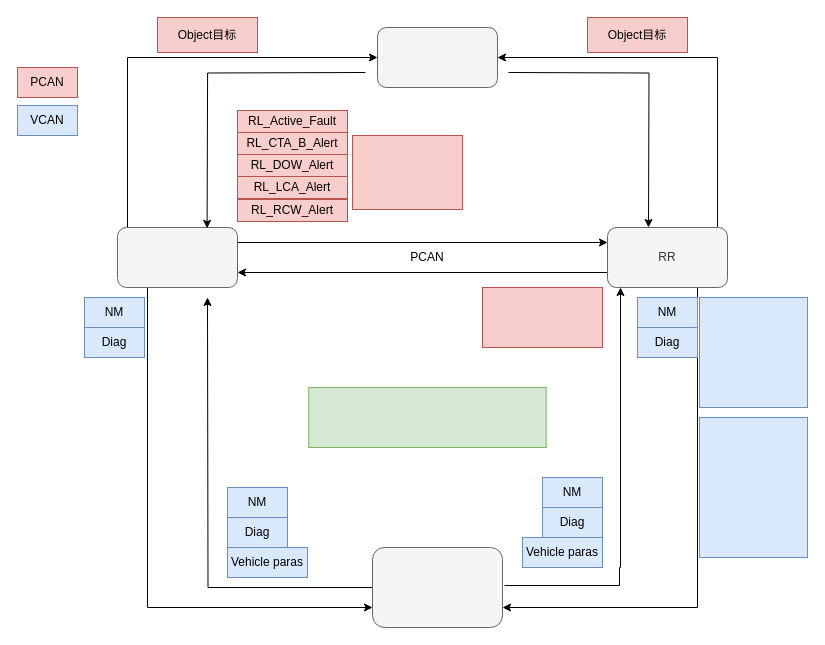
Image size: 825x645. Some labels were removed from this diagram. The shapes that lost their labels are listed below. From the top down, each one's centre as x and y in pixels, then its label:
At (x=437, y=57): "MPC".
At (x=407, y=172): "RL_FF_OP_XXX".
At (x=177, y=257): "RL".
At (x=542, y=317): "RR_FF_OP_XXX".
At (x=753, y=352): "RCTB_Deecl减速度_R RCTB_DecelVld减速度有效位_R RCTB_Req_R".
At (x=427, y=417): "所有Warning都是RR角发送到VCAN RL的Warning通过PCAN发送给RR".
At (x=753, y=487): "LCA_Warn_L RCTA_Warn_L DOW_Warn_L LCA_Warn_R RCTA_Warn_R DOW_Warn_R RCW_Warn".
At (x=437, y=587): "GW".
